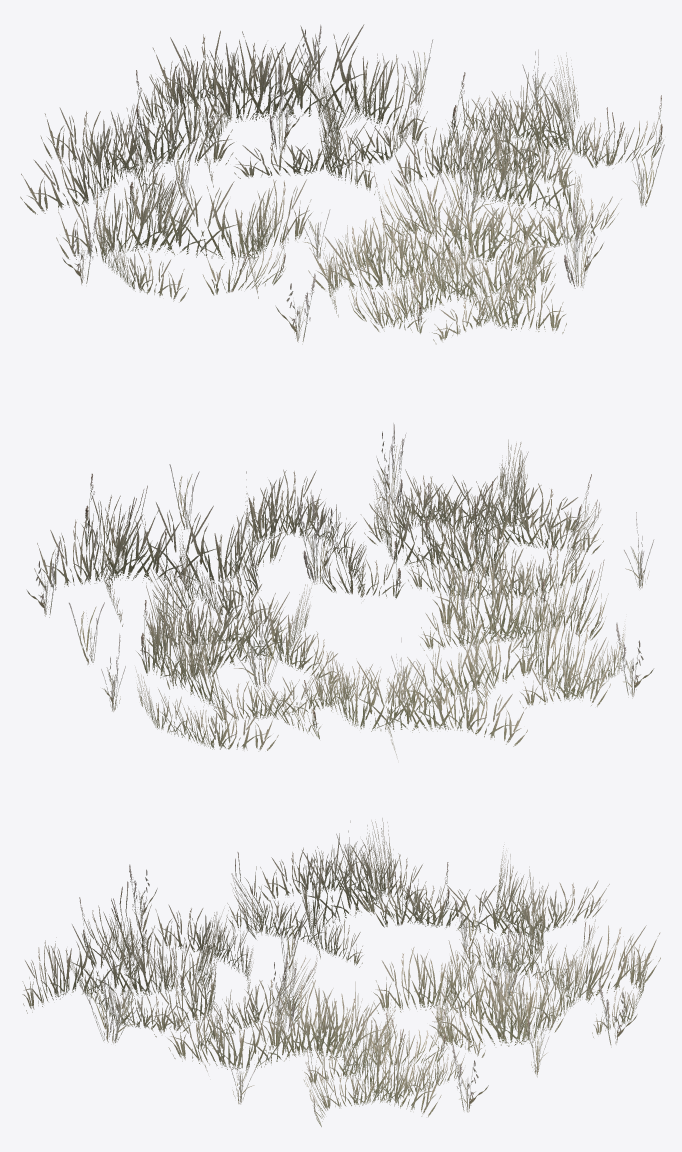
Rendered from urbandrygrass_01.FBX.
The picture shows the model from 3 angles, top to bottom: view 1: azimuth 30°, elevation 25°; view 2: azimuth 150°, elevation 25°; view 3: azimuth 270°, elevation 25°; orthographic projection. The views are drawn at different scales.
Visible parts, largest first — view 1: urbandrygrass_01; view 2: urbandrygrass_01; view 3: urbandrygrass_01.
Part boxes in pixels (x1=…): urbandrygrass_01: x1=20, y1=24, x2=664, y2=344; urbandrygrass_01: x1=26, y1=423, x2=654, y2=758; urbandrygrass_01: x1=22, y1=818, x2=660, y2=1126.
Bounding box in the file's own units: 1.59 × 1.61 × 0.313.
Materials: 1 (1 with a texture image).
